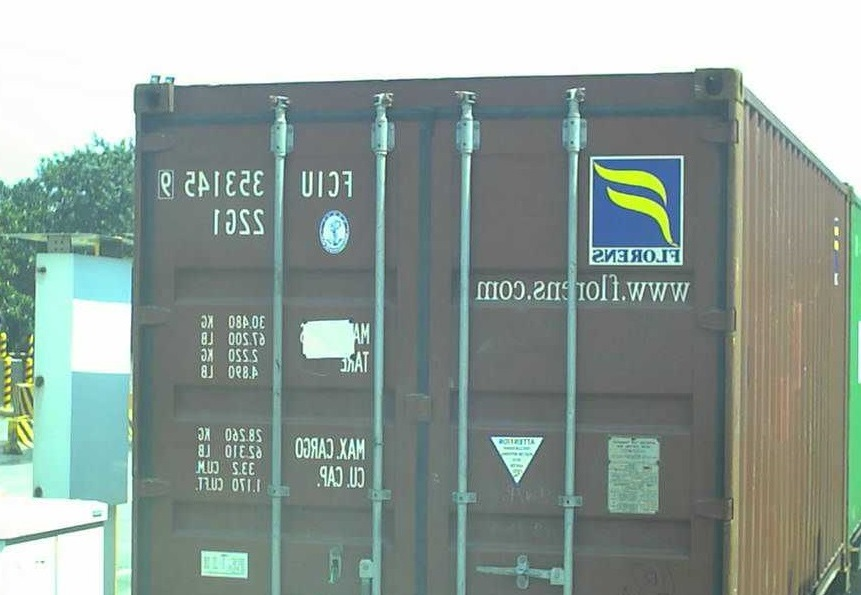container_door: (121, 68, 740, 595)
